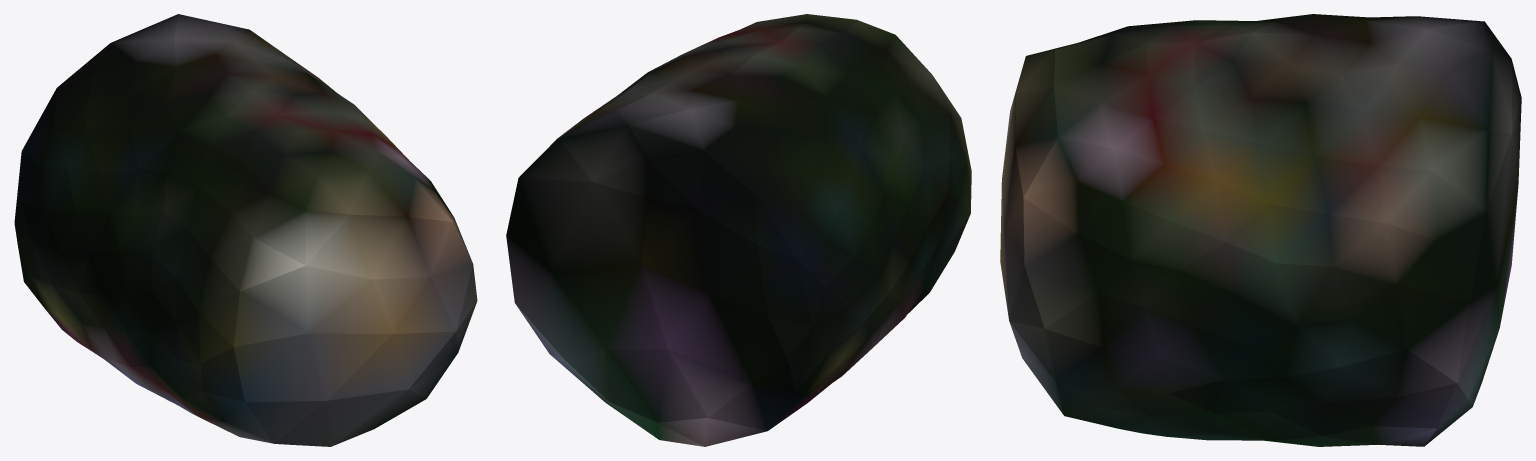
The model's file is becks-barrel1.dae.
3 renders of one model, left to right at view 1: azimuth 30°, elevation 25°; view 2: azimuth 150°, elevation 25°; view 3: azimuth 270°, elevation 25°, orthographic. The views are drawn at different scales.
Visible parts, largest first — view 1: node; view 2: node; view 3: node.
Boxes of the visible parts, <box> form: node: <box>14,14,477,446</box>; node: <box>506,14,971,446</box>; node: <box>1000,14,1521,446</box>.
Bounding box in the file's own units: 0.1791 × 0.1755 × 0.2118.
